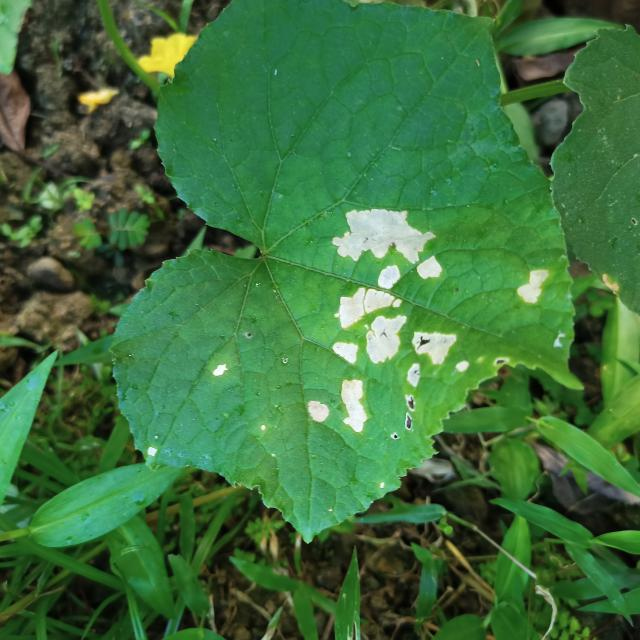disease_cucumber: (303, 204, 461, 445), (512, 260, 553, 320), (210, 361, 234, 381)
